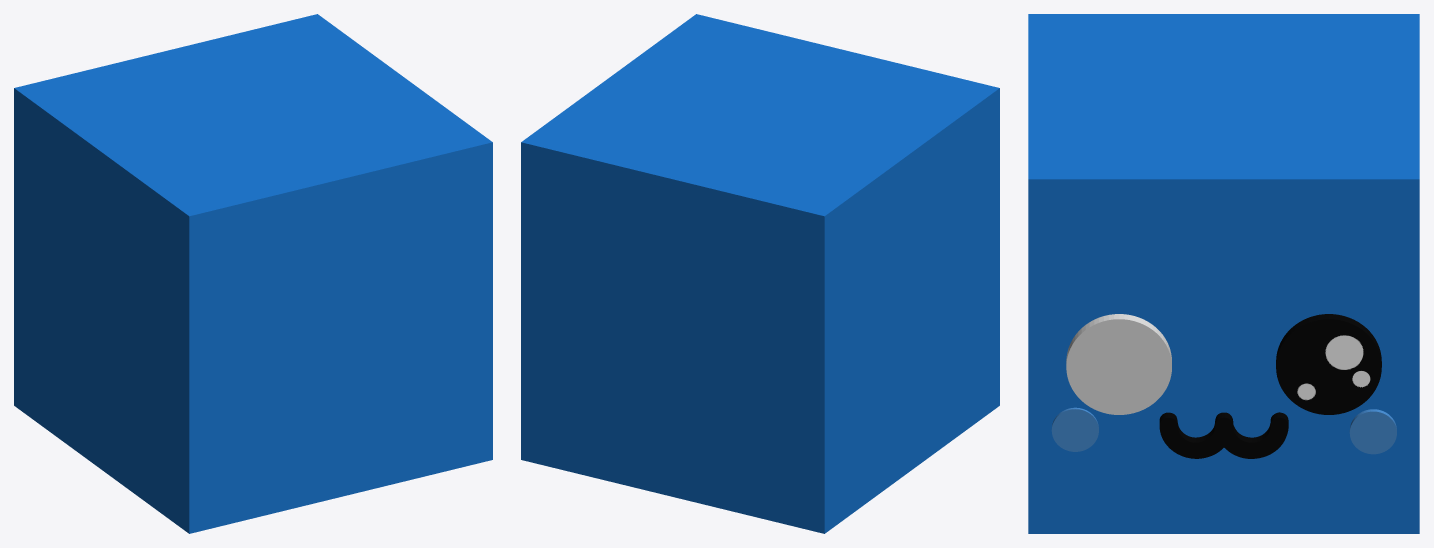
File: owo_note.fbx
3 views of the same model, side by side, from view 1: azimuth 30°, elevation 25°; view 2: azimuth 150°, elevation 25°; view 3: azimuth 270°, elevation 25° (orthographic). The views are drawn at different scales.
Parts seen in each view (by area): view 1: Cube; view 2: Cube; view 3: Cube, Cylinder, Cylinder.001, BezierCircle, Cylinder.003, Cylinder.002.
Boxes of the visible parts, x1=… form: Cube: x1=14, y1=14, x2=492, y2=533; Cube: x1=521, y1=14, x2=999, y2=533; Cube: x1=1028, y1=14, x2=1419, y2=533; Cylinder: x1=1276, y1=314, x2=1381, y2=414; Cylinder.001: x1=1066, y1=314, x2=1171, y2=414; BezierCircle: x1=1159, y1=412, x2=1288, y2=458; Cylinder.003: x1=1349, y1=409, x2=1396, y2=454; Cylinder.002: x1=1051, y1=407, x2=1098, y2=451.
Bounding box in the file's own units: 1023 × 992 × 992.
